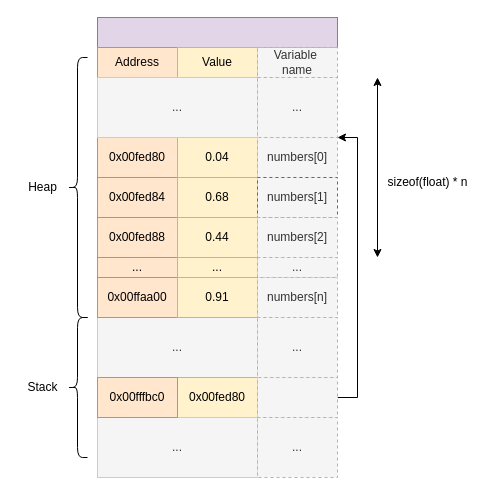
Image size: 494x495. Some labels were removed from this diagram. Each missing label, with the box of its shape:
Memory: (96, 16, 338, 48)
numbers: (256, 376, 338, 418)
